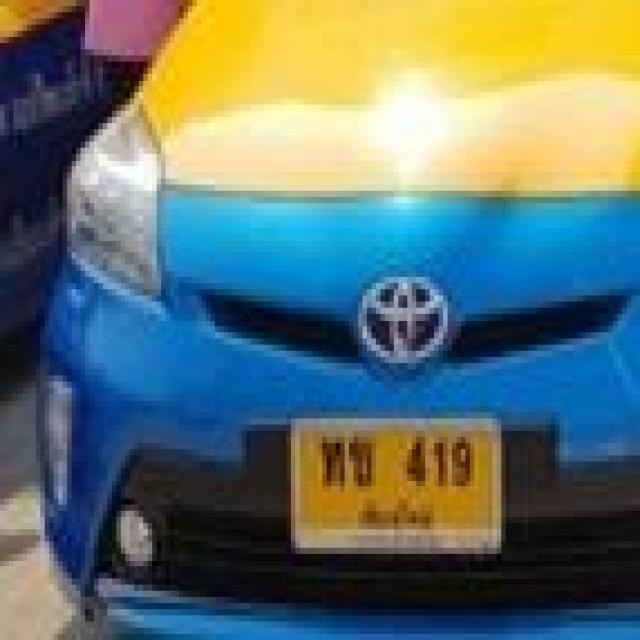plate: (294, 420, 499, 538)
